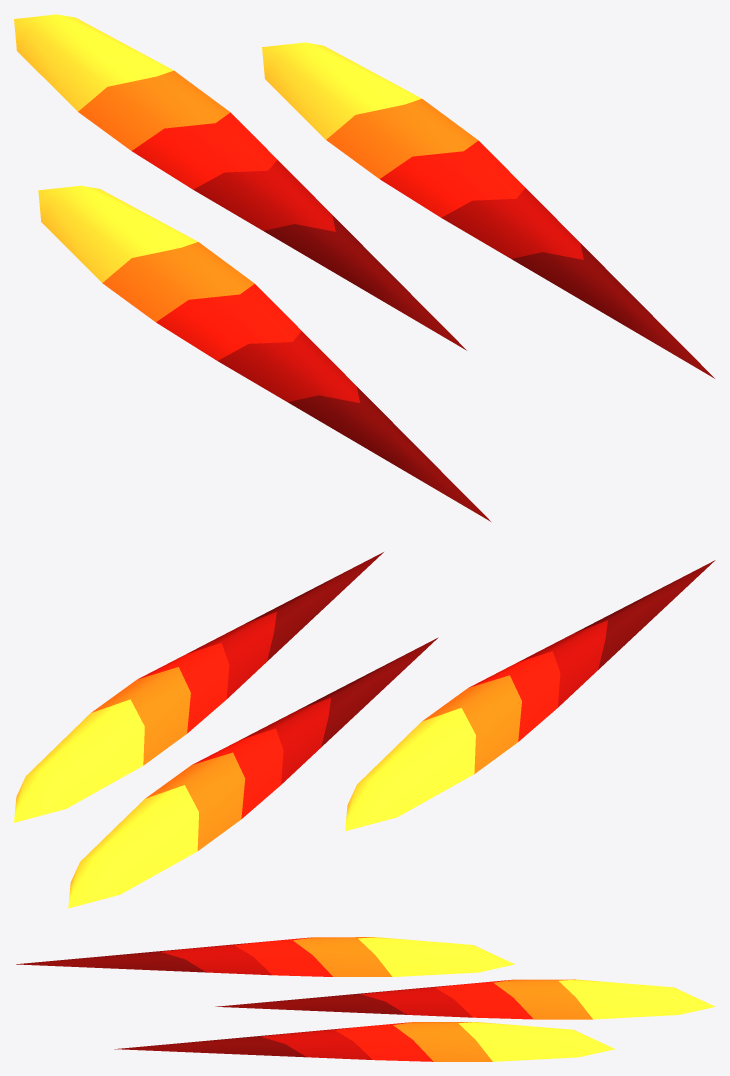
File: shot_vulcan_3.glb
3 views of the same model, one above another, from view 1: azimuth 30°, elevation 25°; view 2: azimuth 150°, elevation 25°; view 3: azimuth 270°, elevation 25° (orthographic). The views are drawn at different scales.
Parts seen in each view (by area): view 1: shot_vulcan_3_needle2, shot_vulcan_3_needle0, shot_vulcan_3_needle1; view 2: shot_vulcan_3_needle2, shot_vulcan_3_needle1, shot_vulcan_3_needle0; view 3: shot_vulcan_3_needle0, shot_vulcan_3_needle1, shot_vulcan_3_needle2.
Boxes of the visible parts, box(x1,y1,x2,y2) form: shot_vulcan_3_needle2: box(38, 185, 490, 521); shot_vulcan_3_needle0: box(14, 14, 466, 350); shot_vulcan_3_needle1: box(262, 42, 714, 378); shot_vulcan_3_needle2: box(345, 560, 715, 831); shot_vulcan_3_needle1: box(14, 552, 383, 822); shot_vulcan_3_needle0: box(68, 637, 438, 908); shot_vulcan_3_needle0: box(215, 979, 715, 1019); shot_vulcan_3_needle1: box(114, 1022, 615, 1061); shot_vulcan_3_needle2: box(16, 937, 514, 976).
Size of the model in its own units: 5.2 by 0.57 by 14.
